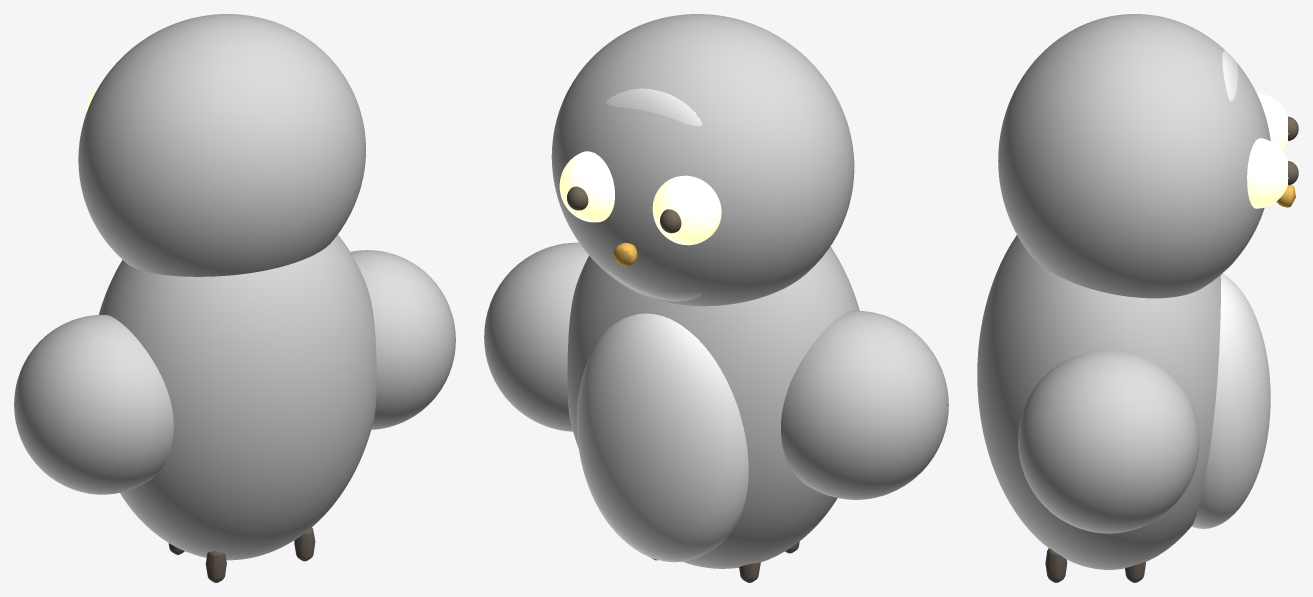
Rendered from pet_wise_owl_r2_v3.glb.
3 views of the same model, side by side, from view 1: azimuth 30°, elevation 25°; view 2: azimuth 150°, elevation 25°; view 3: azimuth 270°, elevation 25° (orthographic). The views are drawn at different scales.
Parts seen in each view (by area): view 1: head.001, body.002, wing_l, wing_r, talon_2; view 2: head.001, belly.001, body.002, wing_l, wing_r, eye_l.002, eye_r.002, face; view 3: head.001, body.002, wing_r, belly.001, eye_r.002, eye_l.002, face, talon_3.
Part boxes in pixels (x1,y1,x2,y2): head.001: (78, 14, 365, 276); body.002: (98, 234, 376, 560); wing_l: (14, 315, 173, 494); wing_r: (350, 250, 455, 429); talon_2: (205, 551, 226, 582); head.001: (551, 14, 854, 306); belly.001: (576, 313, 748, 562); body.002: (567, 246, 859, 568); wing_l: (781, 310, 948, 499); wing_r: (484, 242, 588, 431); eye_l.002: (652, 175, 721, 245); eye_r.002: (559, 151, 614, 222); face: (606, 88, 702, 301); head.001: (998, 14, 1270, 298); body.002: (977, 235, 1220, 569); wing_r: (1018, 351, 1199, 533); belly.001: (1191, 273, 1270, 528); eye_r.002: (1247, 138, 1288, 208); eye_l.002: (1257, 93, 1288, 150); face: (1222, 50, 1238, 267); talon_3: (1045, 548, 1067, 582).
Bounding box in the file's own units: 0.9456 × 1.12 × 0.6127.
